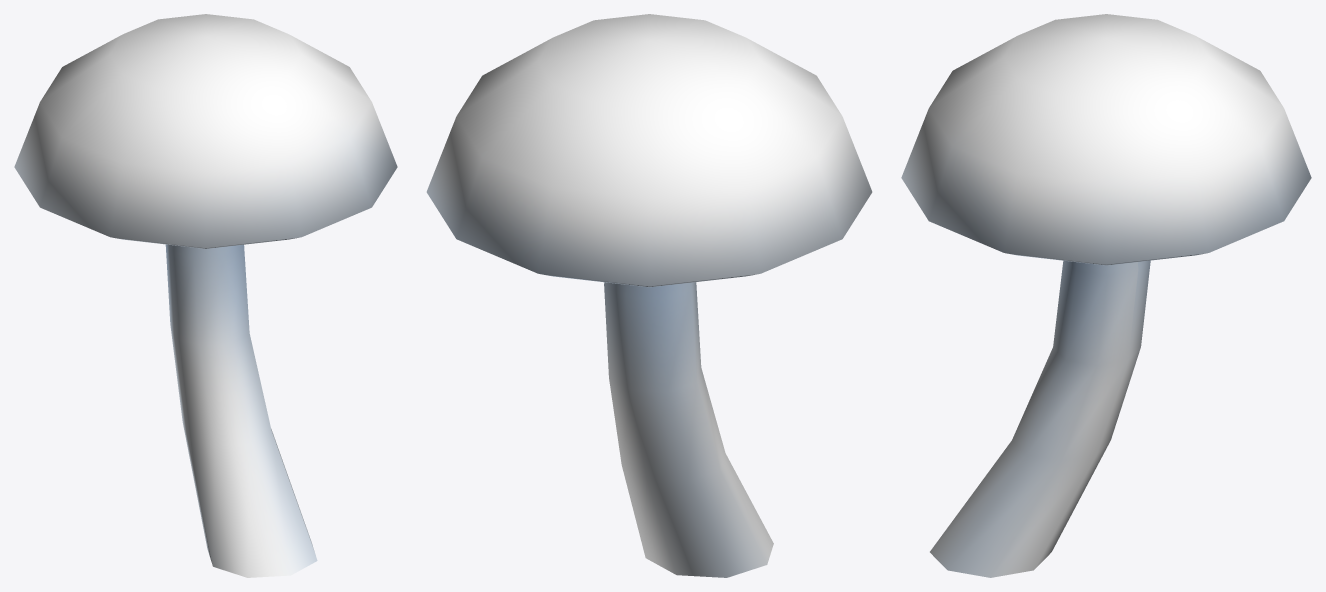
The picture shows the model from 3 angles, left to right: view 1: azimuth 30°, elevation 25°; view 2: azimuth 150°, elevation 25°; view 3: azimuth 270°, elevation 25°; orthographic projection. The views are drawn at different scales.
Visible parts, largest first — view 1: Cylinder010; view 2: Cylinder010; view 3: Cylinder010.
Part boxes in pixels (<box>): Cylinder010: <box>14,14,397,577</box>; Cylinder010: <box>426,14,872,577</box>; Cylinder010: <box>901,14,1311,577</box>.
Bounding box in the file's own units: 21.76 × 29.97 × 21.76.
Materials: 1 (1 with a texture image).
